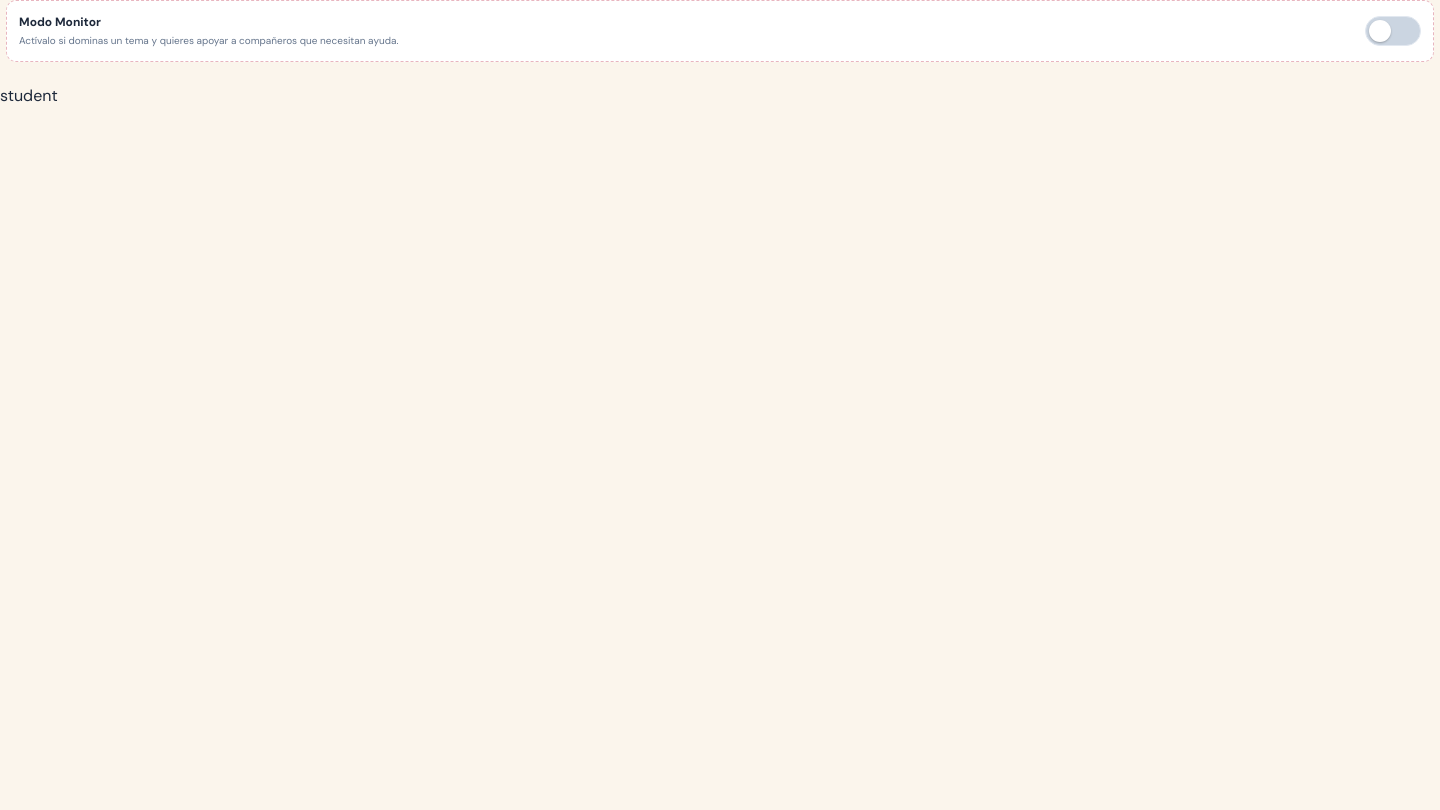
Test: role views › enables peer support after confirmation while preserving the student account role
Expected: the text with test id "view-role" reads "student", [0,84,58,106]
Click the switch with test id "monitor-mode-toggle": [1393, 31] box [1365,16,1421,46]
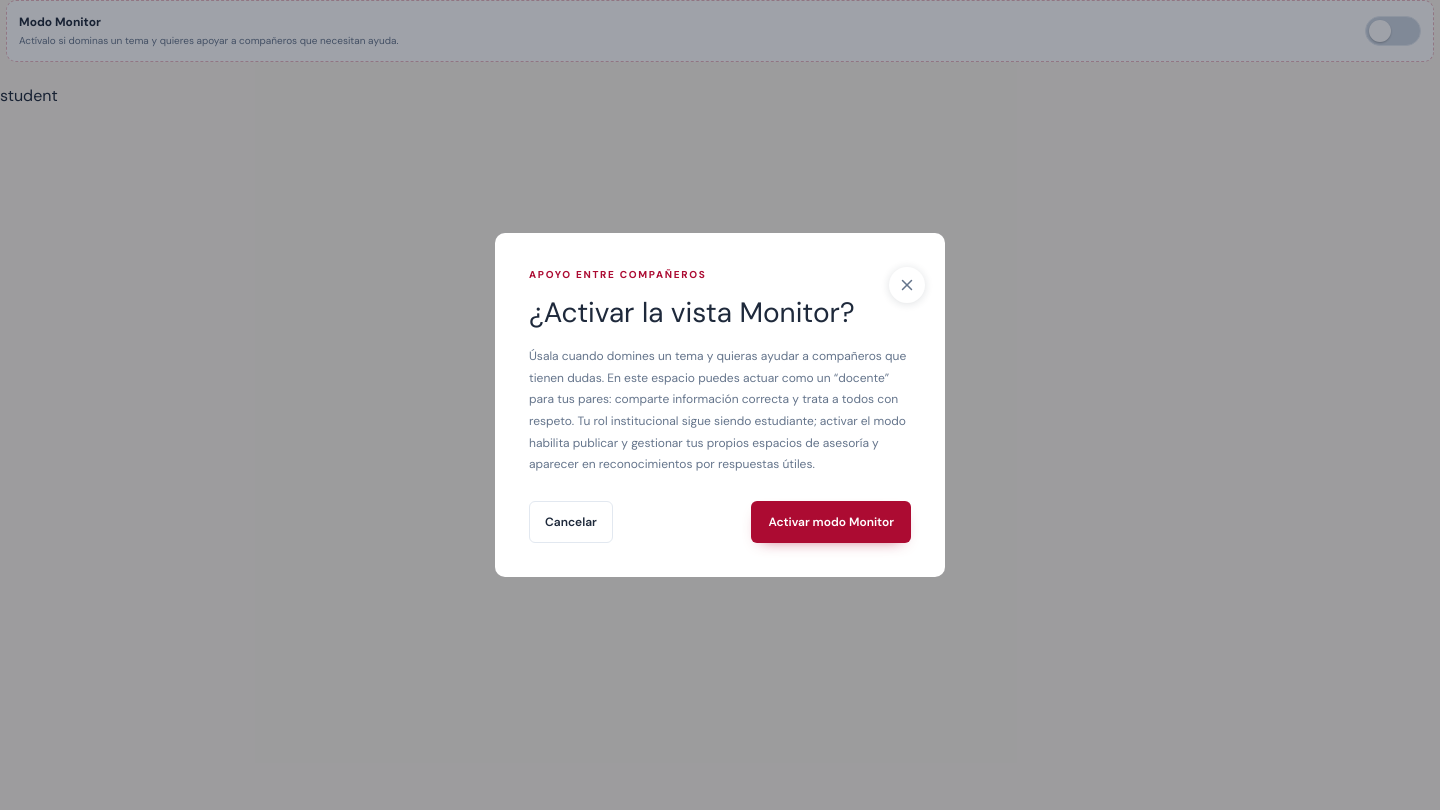
Result: the dialog with test id "monitor-mode-confirmation" is shown at [495,233,945,577]
Click the button "Activar modo Monitor": [831, 522] box [751,501,911,543]
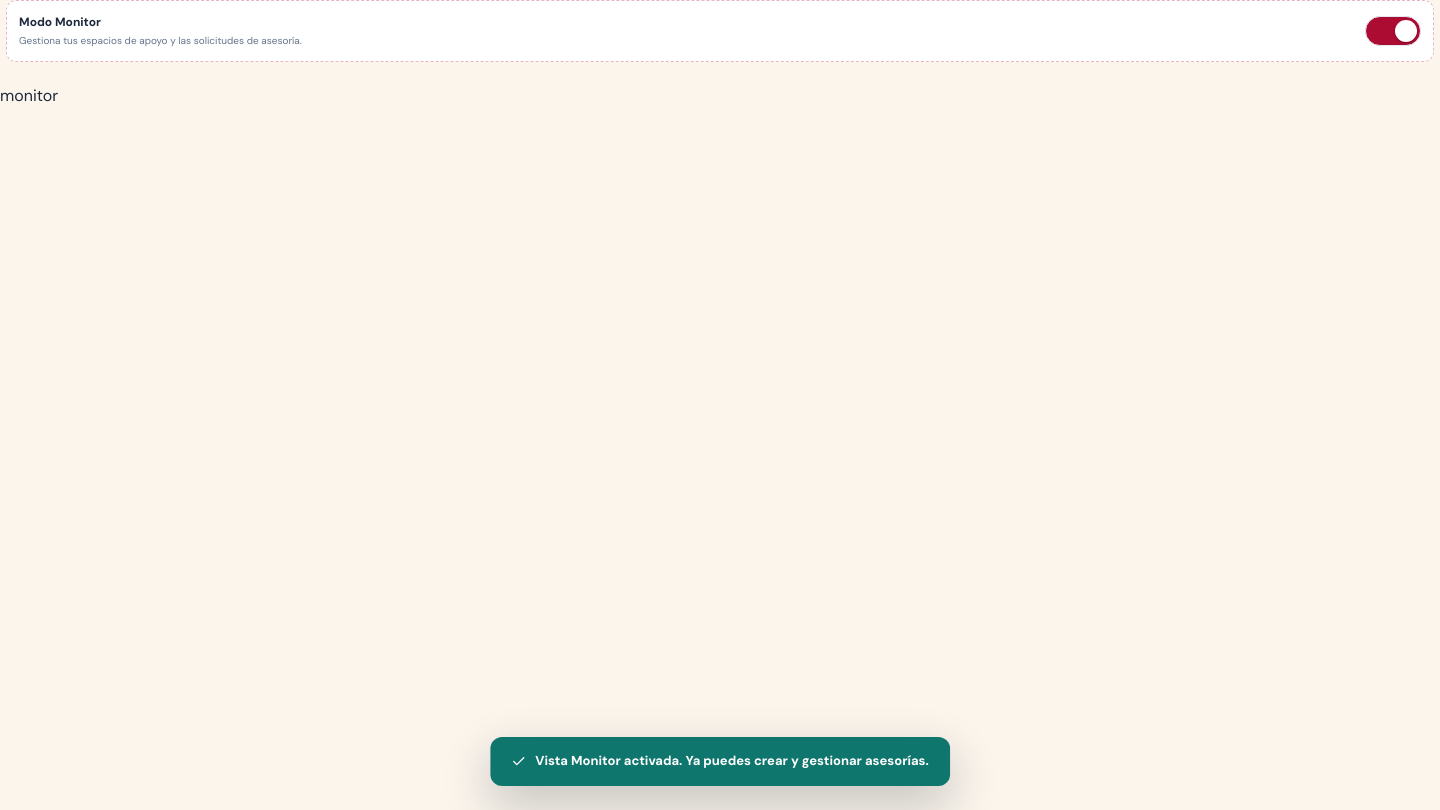
Result: the text with test id "view-role" reads "monitor" at [0,84,58,106]
Result: the message with test id "monitor-toggle-toast" shows "Vista Monitor activada" at [535,752,929,769]
Click the switch with test id "monitor-mode-toggle": [1393, 31] box [1365,16,1421,46]
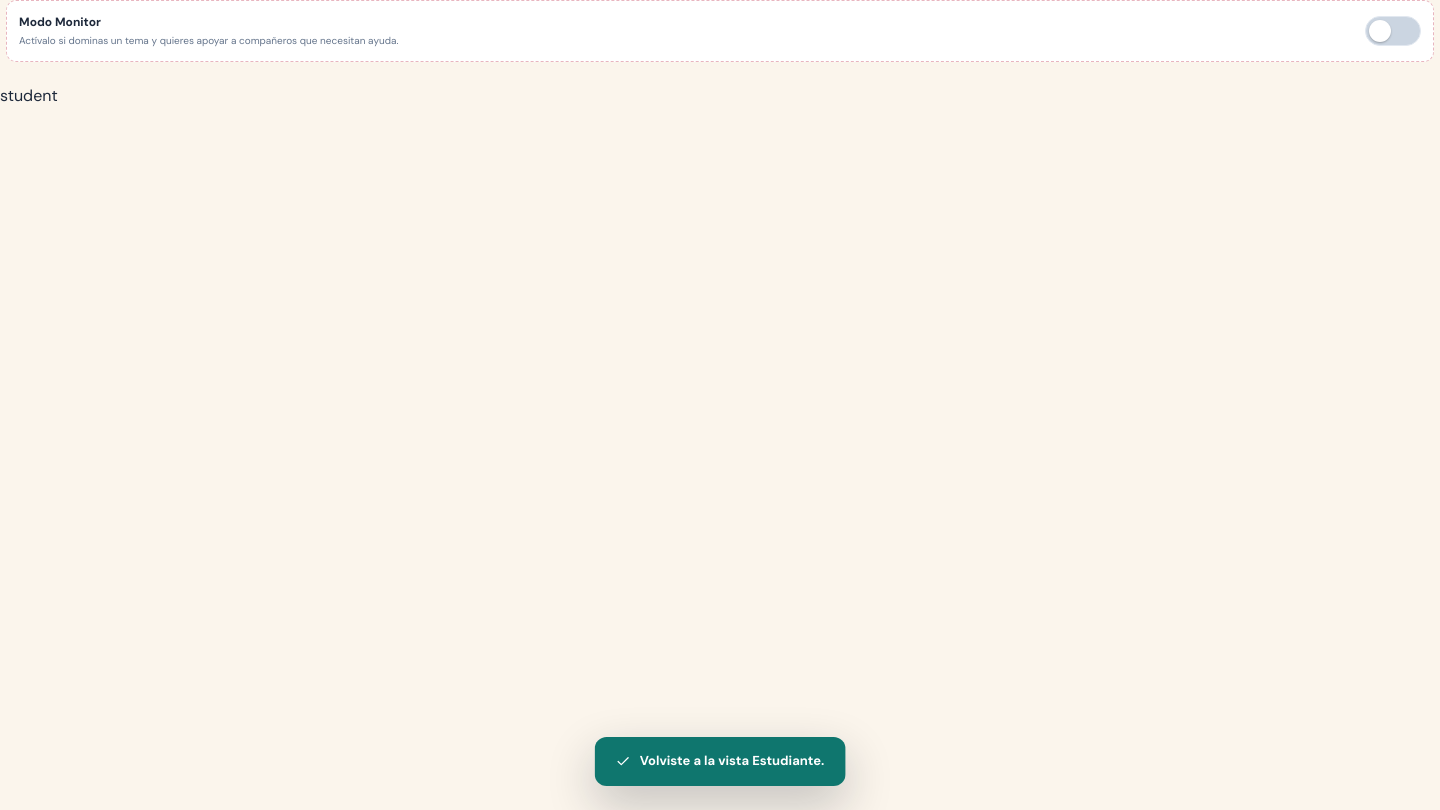
Result: the text with test id "view-role" reads "student" at [0,84,58,106]
Result: the message with test id "monitor-toggle-toast" shows "Volviste a la vista Estudiante" at [640,752,824,769]
